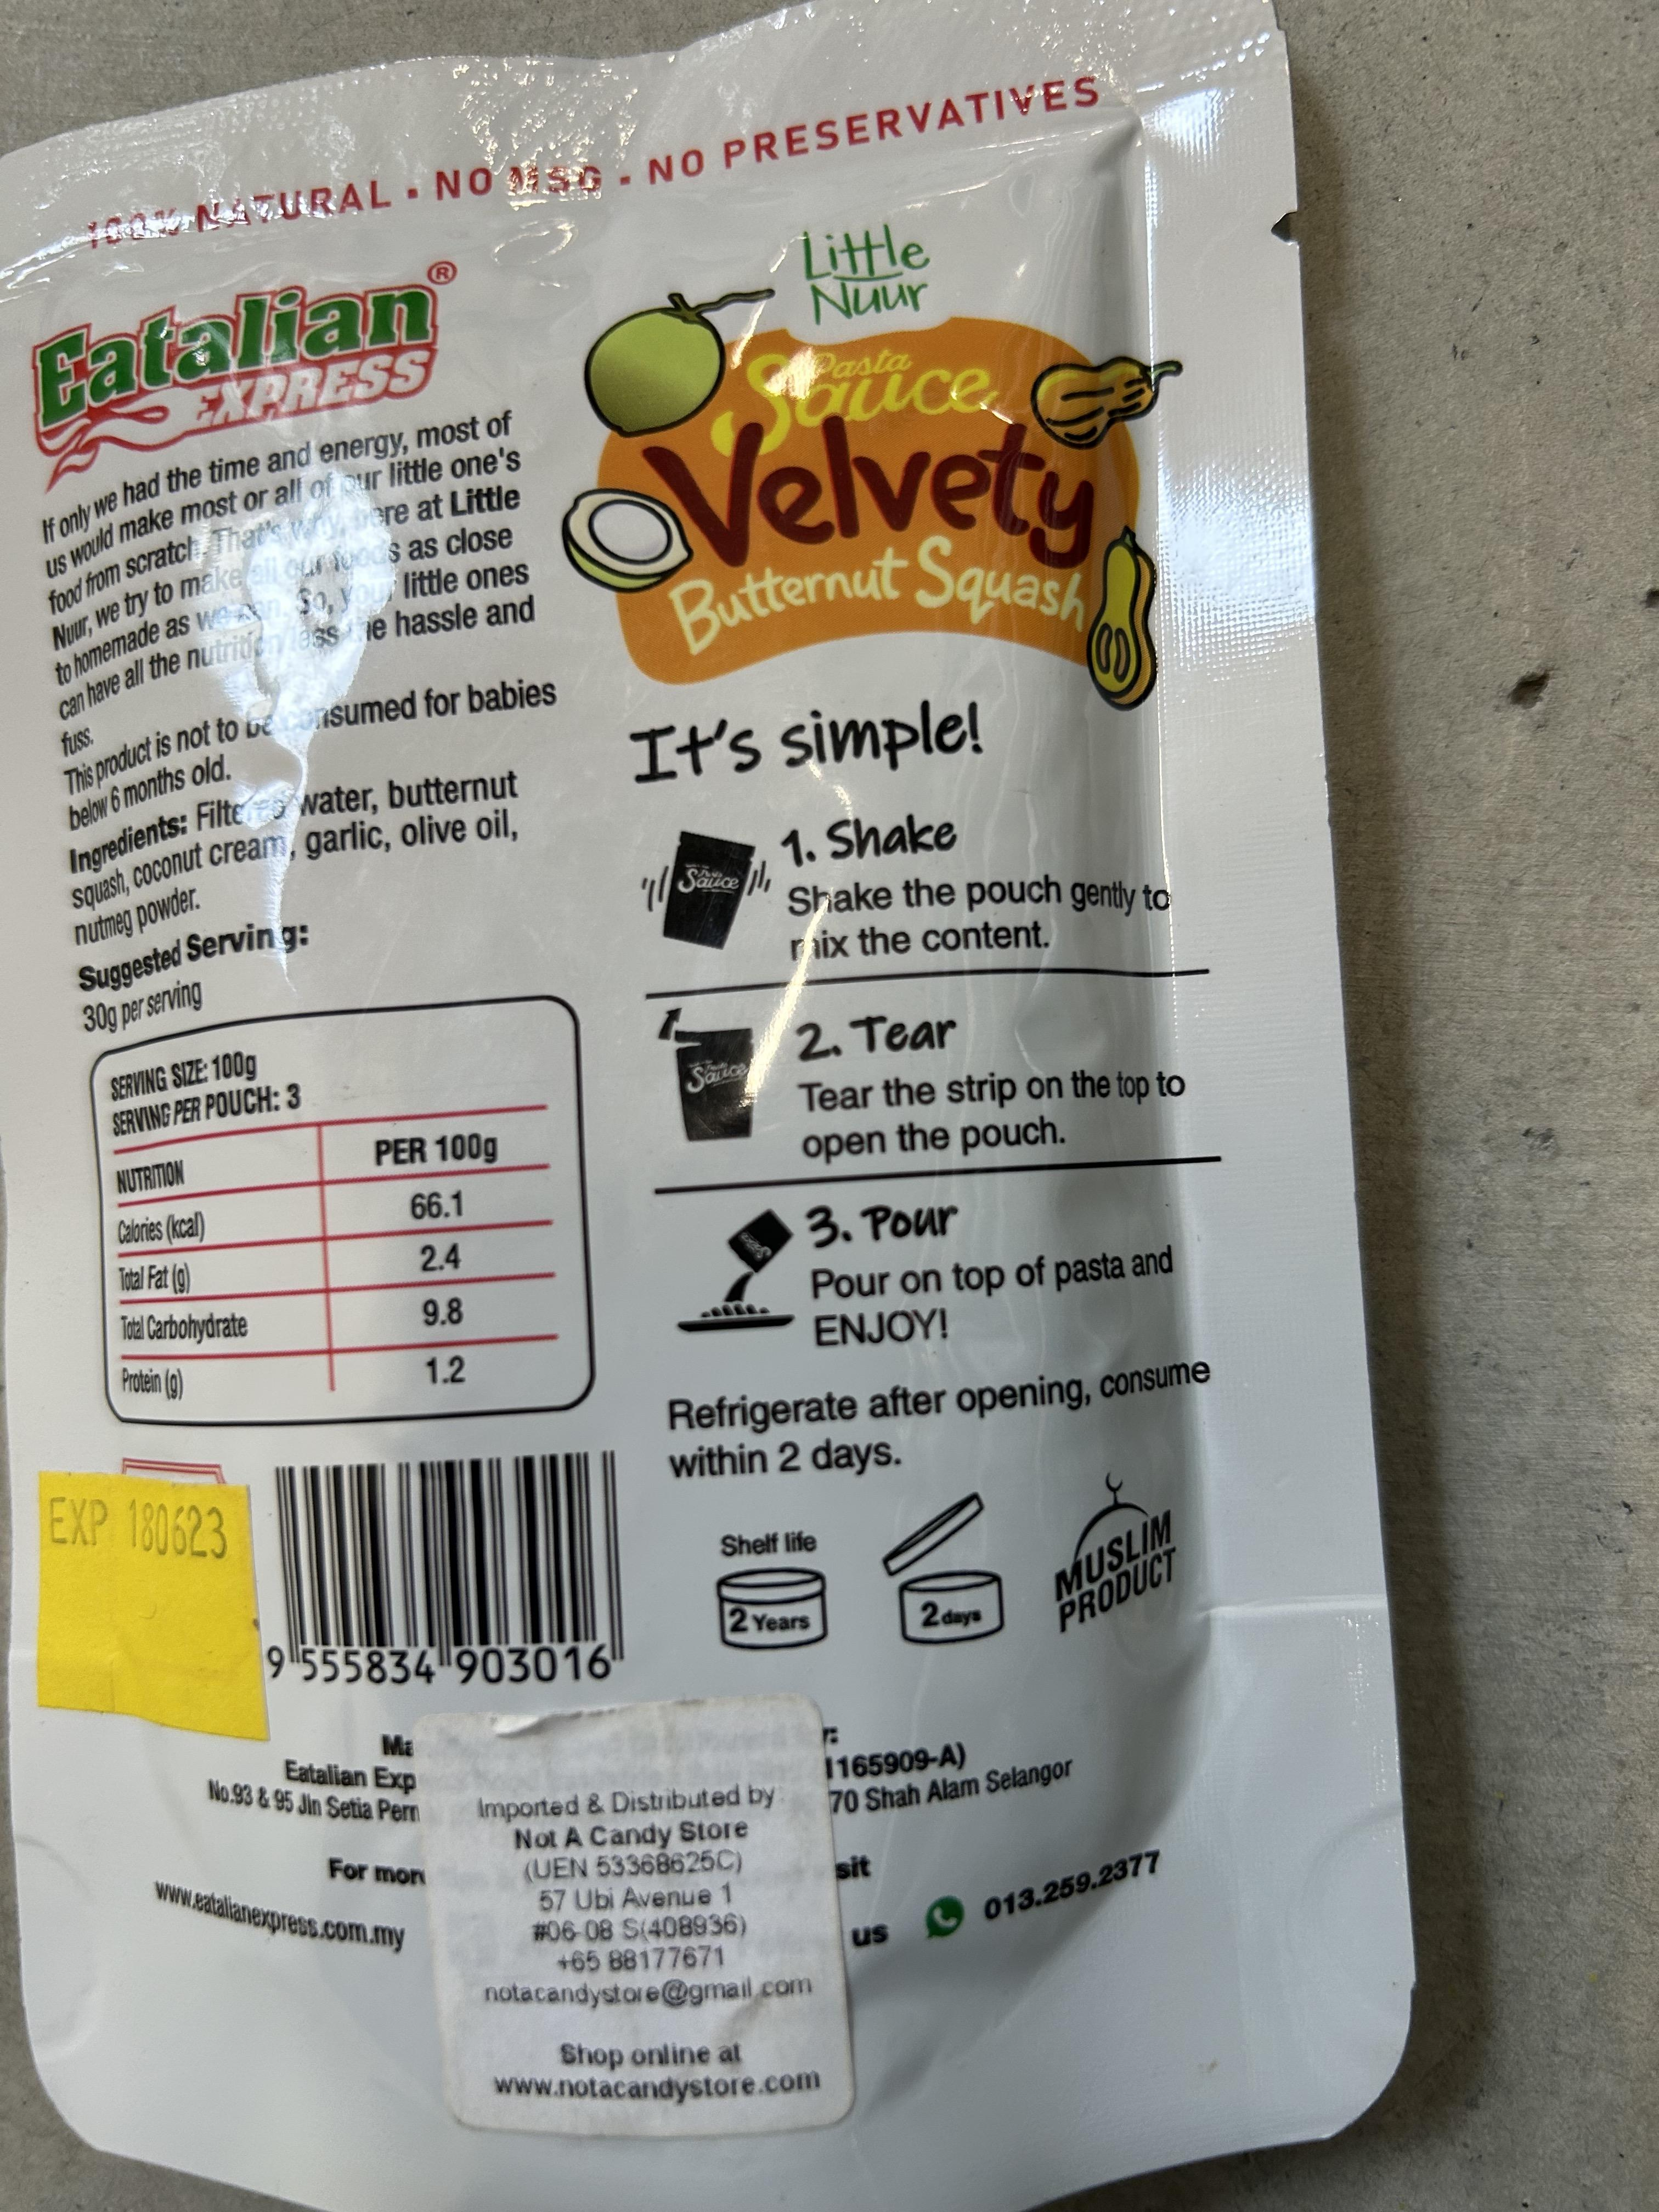object_name: (9, 162, 1363, 2121)
